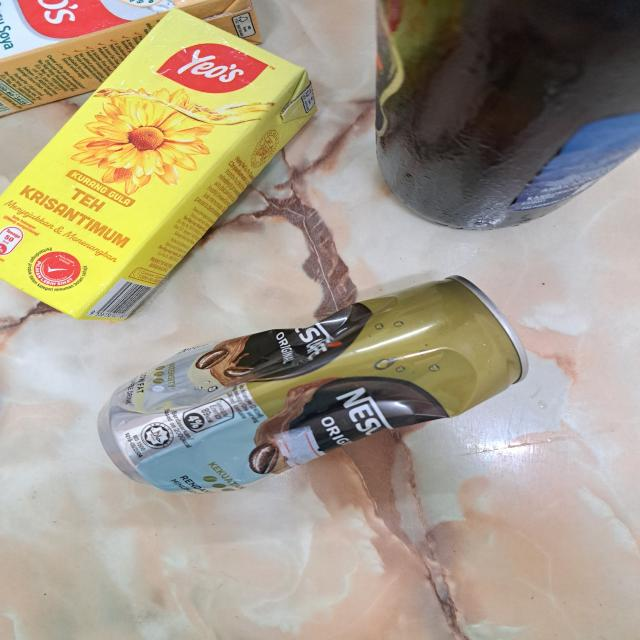can: (97, 274, 525, 492)
drink carton: (0, 9, 320, 322), (0, 0, 267, 116)
glass bottle: (375, 0, 640, 233)
